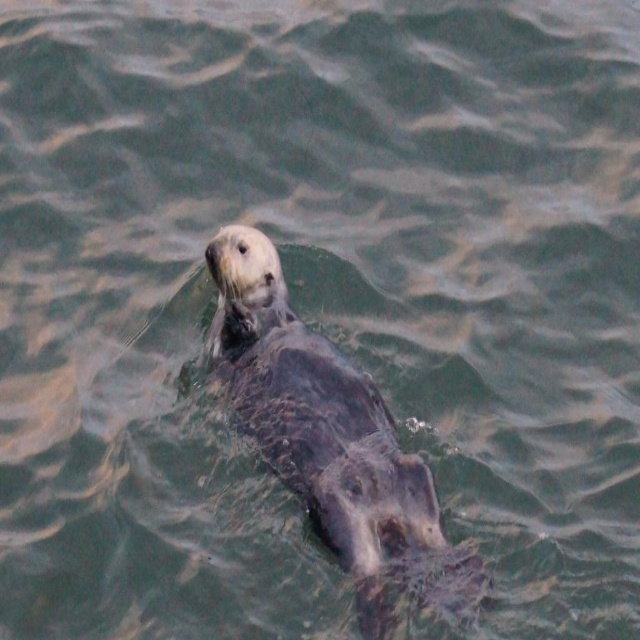Harbor seal: (205, 226, 494, 640)
